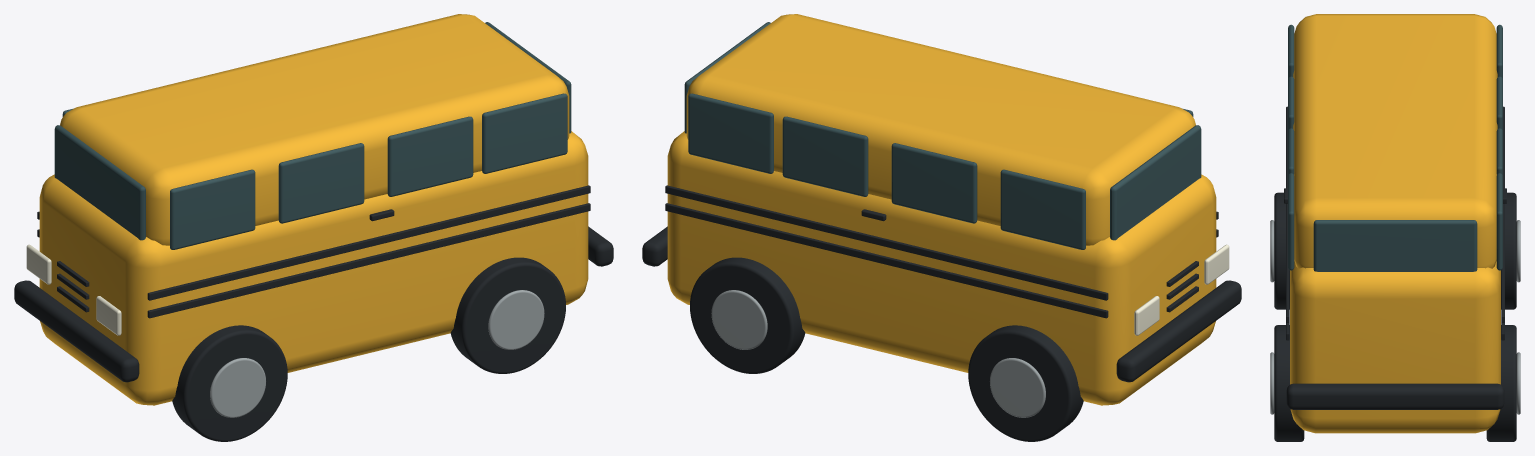
File: danfo-minibus.glb
The picture shows the model from 3 angles, left to right: view 1: azimuth 30°, elevation 25°; view 2: azimuth 150°, elevation 25°; view 3: azimuth 270°, elevation 25°; orthographic projection. The views are drawn at different scales.
Visible parts, largest first — view 1: Minibus body, Upper body, Tyre, Tyre.001, Side window.002, Side window.001, Side window.003, Side window, Front windscreen, Front bumper, Black side stripe.001, Black side stripe (+5 smaller); view 2: Minibus body, Upper body, Tyre.002, Tyre.003, Side window.006, Side window.005, Side window.007, Side window.004, Front windscreen, Front bumper, Black side stripe.003, Black side stripe.002 (+5 smaller); view 3: Upper body, Minibus body, Rear window, Rear bumper, Tyre.001, Tyre.003, Tyre, Tyre.002, Side window.003, Side window.007, Black side stripe, Black side stripe.002 (+10 smaller).
Part boxes in pixels (x1,y1,x2,y2): Minibus body: (39,131,588,405); Upper body: (60,14,569,245); Tyre: (172,325,287,441); Tyre.001: (450,257,565,373); Side window.002: (387,116,473,196); Side window.001: (278,143,364,223); Side window.003: (482,93,567,173); Side window: (170,169,255,249); Front windscreen: (54,125,145,240); Front bumper: (14,280,139,382); Black side stripe.001: (147,203,590,318); Black side stripe: (147,185,590,300); Minibus body: (667,131,1216,405); Upper body: (686,14,1195,245); Tyre.002: (968,325,1083,441); Tyre.003: (690,257,805,373); Side window.006: (782,116,868,196); Side window.005: (891,143,977,223); Side window.007: (688,93,773,173); Side window.004: (1000,169,1085,249); Front windscreen: (1110,125,1201,240); Front bumper: (1116,280,1241,382); Black side stripe.003: (665,203,1108,318); Black side stripe.002: (665,185,1108,300); Upper body: (1293,14,1497,268); Minibus body: (1290,261,1500,433); Rear window: (1313,220,1477,271); Rear bumper: (1286,383,1504,409); Tyre.001: (1274,325,1304,441); Tyre.003: (1486,325,1516,441); Tyre: (1274,192,1289,309); Tyre.002: (1501,192,1516,309); Side window.003: (1288,173,1294,270); Side window.007: (1496,173,1502,270); Black side stripe: (1286,106,1289,322); Black side stripe.002: (1501,106,1504,322).
Size of the model in its own units: 4.07 by 2.13 by 1.84.
